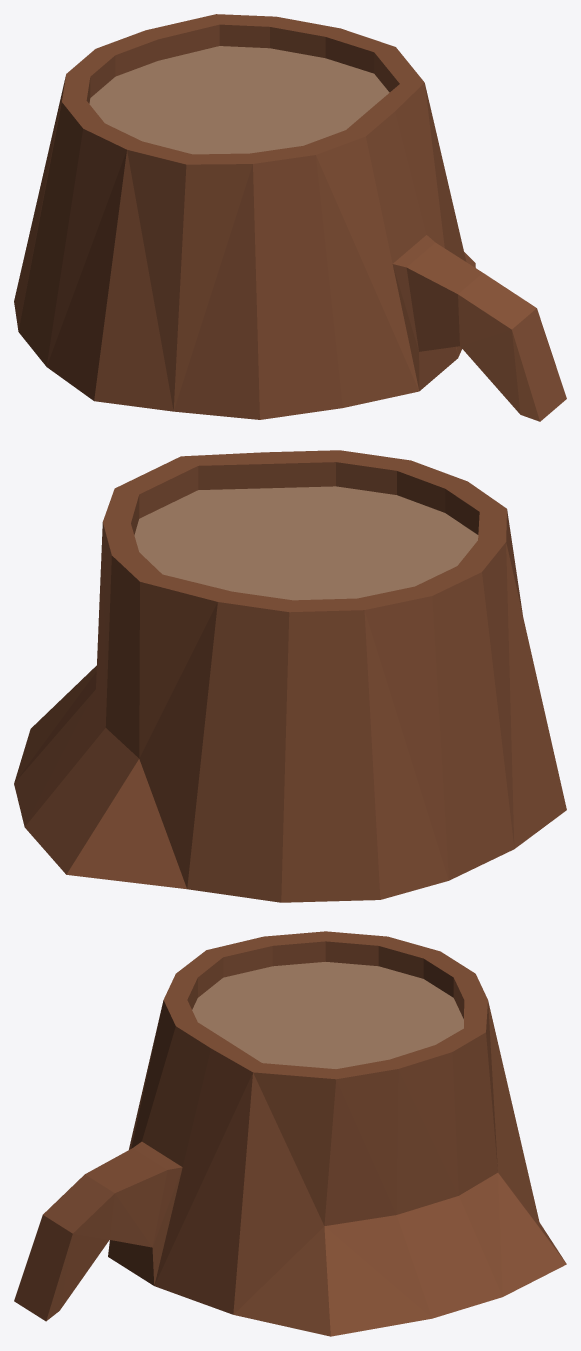
The model's file is Tronco_cortado.fbx.
The picture shows the model from 3 angles, top to bottom: view 1: azimuth 30°, elevation 25°; view 2: azimuth 150°, elevation 25°; view 3: azimuth 270°, elevation 25°; orthographic projection. The views are drawn at different scales.
Parts seen in each view (by area): view 1: Tronco_cortado; view 2: Tronco_cortado; view 3: Tronco_cortado.
Boxes of the visible parts, <box> form: Tronco_cortado: <box>14,14,566,421</box>; Tronco_cortado: <box>14,450,566,902</box>; Tronco_cortado: <box>14,931,566,1336</box>.
Bounding box in the file's own units: 1.75 × 0.9565 × 2.05.
